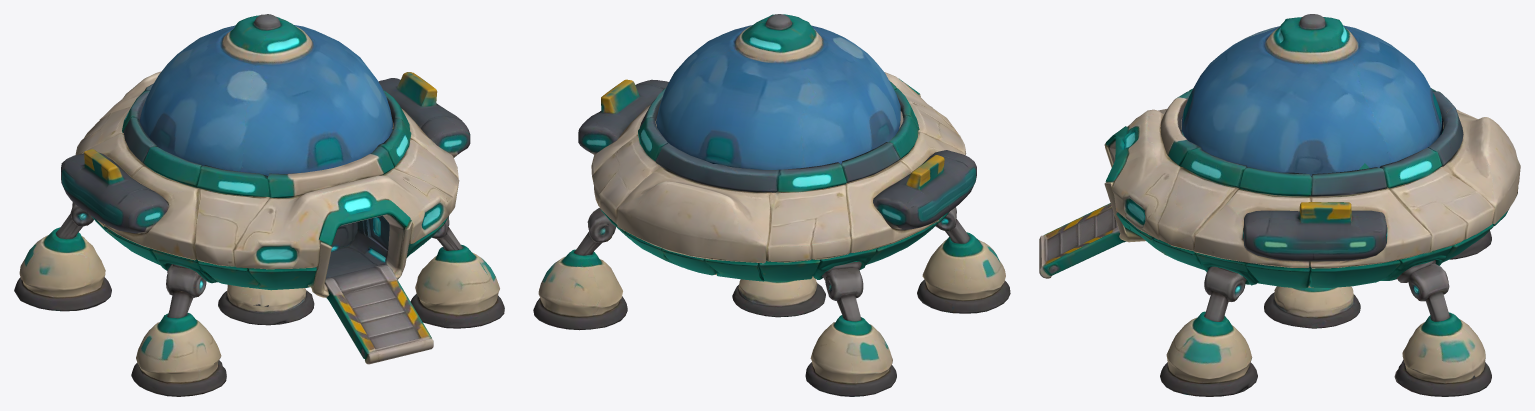
Rendered from ship.glb.
3 renders of one model, left to right at view 1: azimuth 30°, elevation 25°; view 2: azimuth 150°, elevation 25°; view 3: azimuth 270°, elevation 25°, orthographic. The views are drawn at different scales.
Visible parts, largest first — view 1: geometry_0; view 2: geometry_0; view 3: geometry_0.
Part boxes in pixels (<box>): geometry_0: <box>14,14,504,396</box>; geometry_0: <box>533,14,1010,396</box>; geometry_0: <box>1039,14,1520,396</box>.
Size of the model in its own units: 0.8355 by 0.6392 by 0.9536.
Materials: 1 (1 with a texture image).
